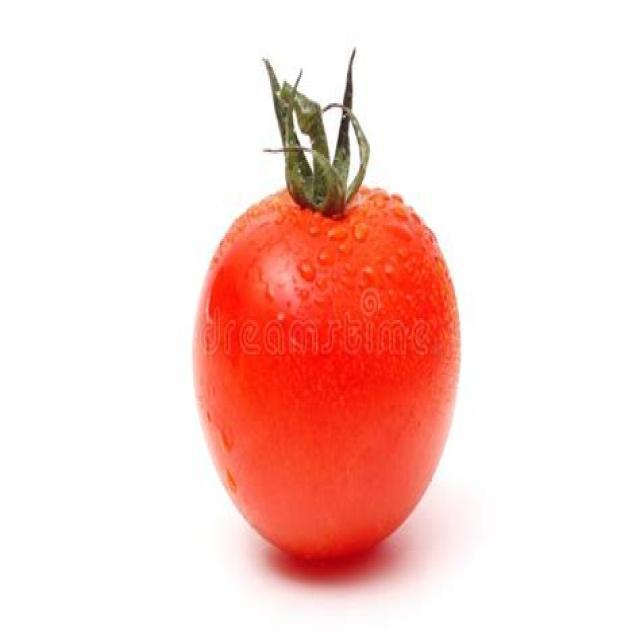Tomato: (191, 166, 463, 565)
